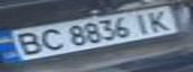3: (97, 17, 118, 43)
6: (112, 15, 136, 38)
8: (63, 21, 87, 47), (81, 20, 103, 45)
B: (6, 29, 45, 57)
C: (33, 26, 66, 53)
I: (130, 10, 157, 35)
K: (142, 7, 181, 33)
